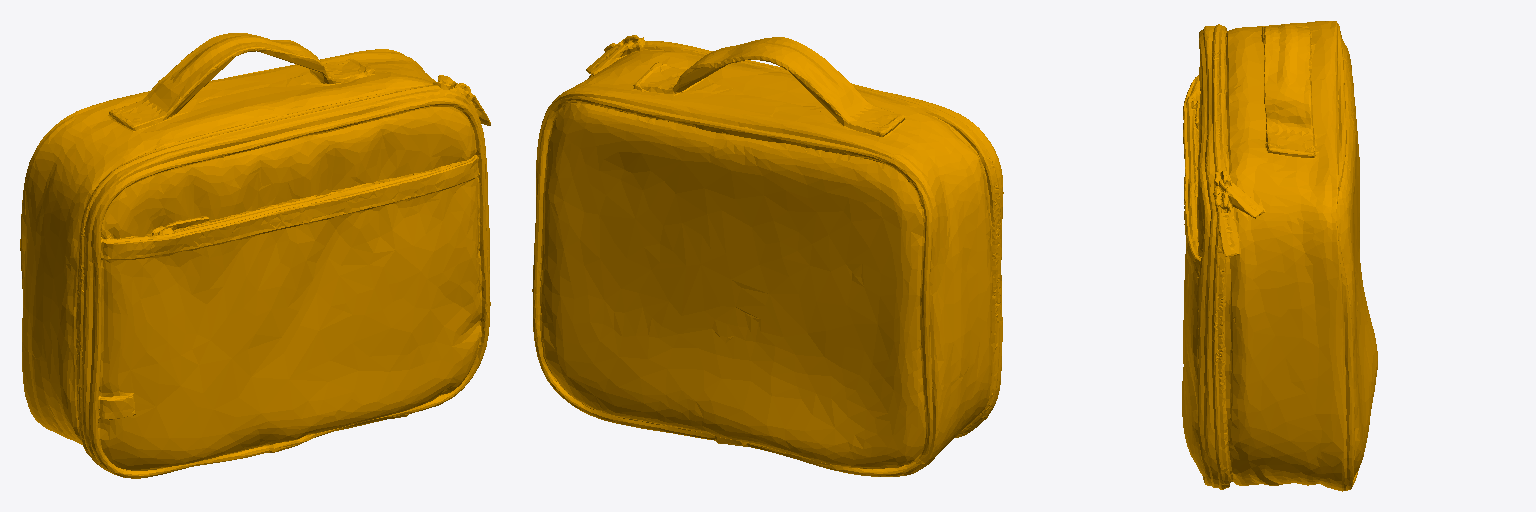
URDF robot description (robot):
<?xml version="1.0"?>
<robot name="">
  <link name="Paul_Frank_Dot_Lunch_Box">
    <contact>
      <lateral_friction value="1.0"/>
      <rolling_friction value="0.0"/>
      <contact_cfm value="0.0"/>
      <contact_erp value="1.0"/>
    </contact>
    <inertial>
      <mass value="0.752931167962"/>
      <inertia ixx="1" ixy="0" ixz="0" iyy="1" iyz="0" izz="1"/>
    </inertial>
    <visual>
      <geometry>
        <mesh filename="Paul_Frank_Dot_Lunch_Box_visual.obj"/>
      </geometry>
    </visual>
    <collision>
      <geometry>
        <mesh filename="Paul_Frank_Dot_Lunch_Box_collision.obj"/>
      </geometry>
    </collision>
  </link>
</robot>

--- What the picture shows (computed from the rendered views, not written in the file) ---
Views: 3 orthographic renders of the robot side by side, from view 1: azimuth 30°, elevation 25°; view 2: azimuth 150°, elevation 25°; view 3: azimuth 270°, elevation 25°.
Model robot with 1 links and 0 joints (none), rooted at Paul_Frank_Dot_Lunch_Box, posed all joints at 0.
Visible links, largest first — view 1: Paul_Frank_Dot_Lunch_Box; view 2: Paul_Frank_Dot_Lunch_Box; view 3: Paul_Frank_Dot_Lunch_Box.
Boxes of the visible links, left/top/right/bottom form: Paul_Frank_Dot_Lunch_Box: left=20, top=33, right=490, bottom=478; Paul_Frank_Dot_Lunch_Box: left=532, top=35, right=1003, bottom=476; Paul_Frank_Dot_Lunch_Box: left=1182, top=21, right=1377, bottom=491.
Bounding box of the posed robot: 0.2634 × 0.1079 × 0.232 m (x, y, z).
1 mesh visuals loaded from 1 distinct referenced files (1 OBJ).
